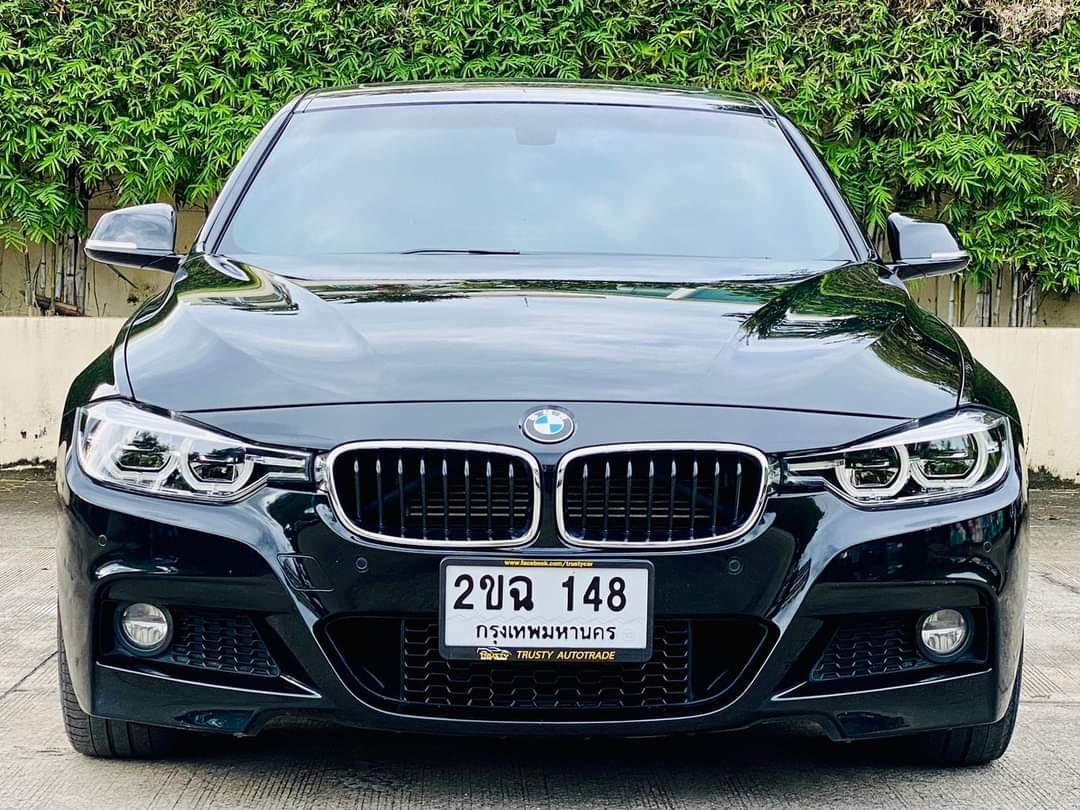license-plate: (437, 547, 657, 661)
